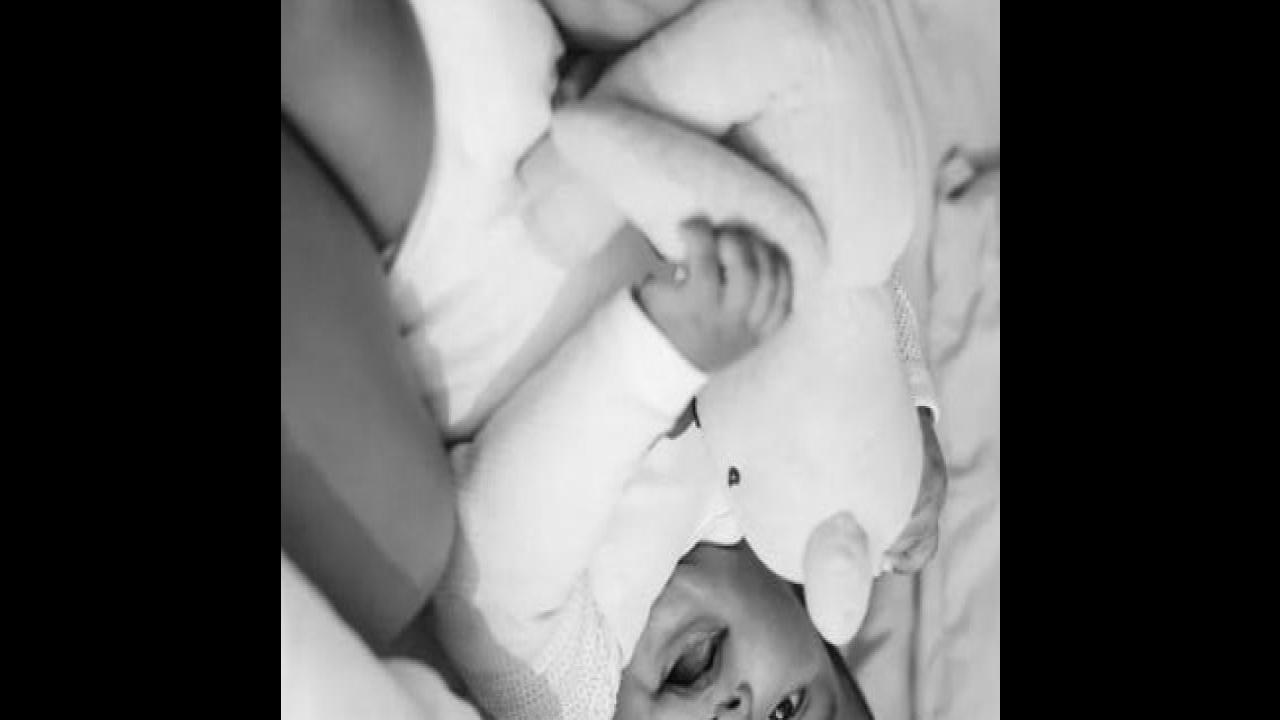hand: (631, 216, 795, 370), (883, 404, 947, 576)
